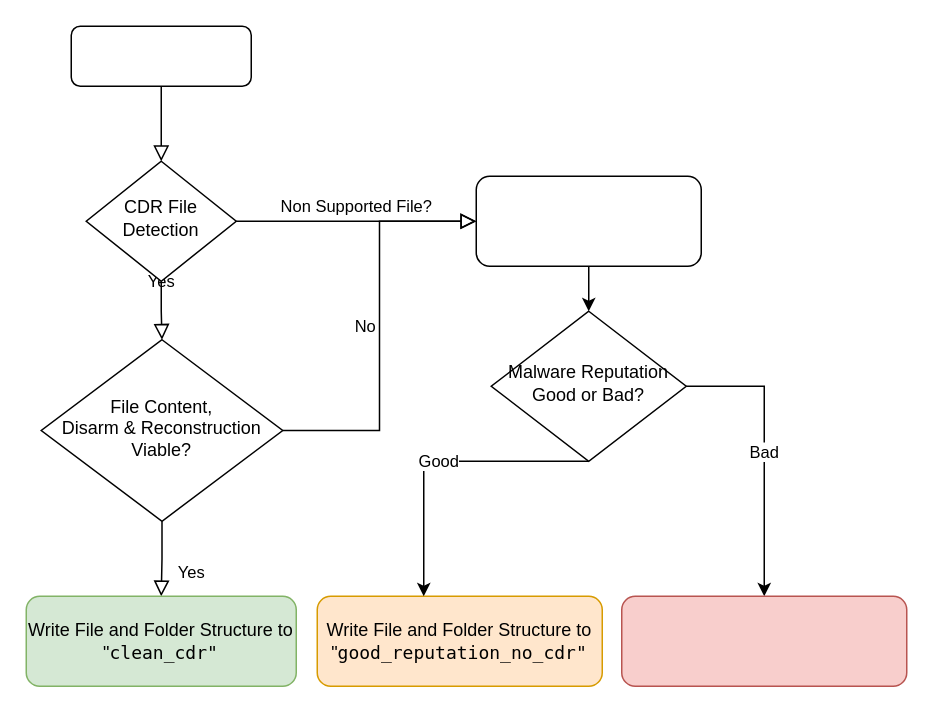
This 933x713 diagram has some shape labels left out. The centre of each missing label's shape, as x and y in pixels:
Do not copy file: (x=763, y=640)
Query Reputation Service and write report to " reputation_reports": (x=588, y=220)
Take file from input folder: (x=160, y=55)
